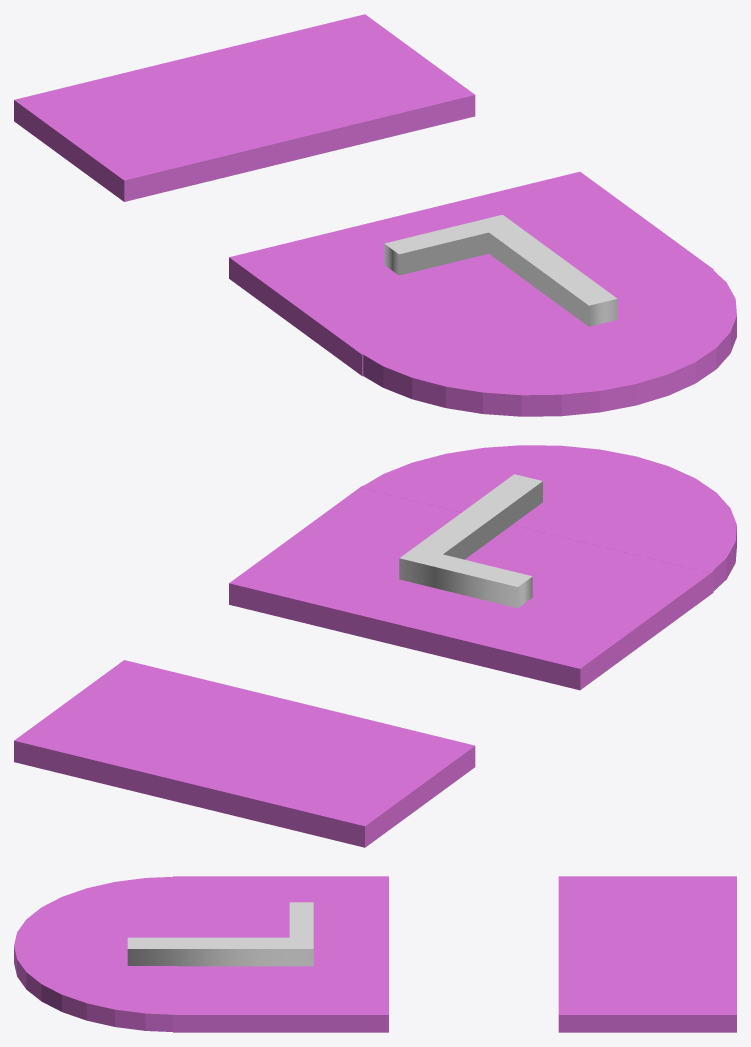
File: leftFootPrefab.fbx
3 renders of one model, top to bottom at view 1: azimuth 30°, elevation 25°; view 2: azimuth 150°, elevation 25°; view 3: azimuth 270°, elevation 25°, orthographic. The views are drawn at different scales.
Parts seen in each view (by area): view 1: heel, toes2, toes1, footnaming; view 2: toes2, heel, toes1, footnaming; view 3: toes2, heel, toes1, footnaming.
Boxes of the visible parts, x1,y1,x2,y2 form: heel: (14,14,475,201); toes2: (229,171,713,376); toes1: (360,267,736,416); footnaming: (384,214,617,326); toes2: (229,485,713,690); heel: (14,660,475,847); toes1: (360,445,736,590); footnaming: (399,474,542,608); toes2: (173,876,388,1032); heel: (558,876,736,1032); toes1: (14,876,177,1031); footnaming: (127,902,313,966).
Bounding box in the file's own units: 120 × 13.97 × 265.
